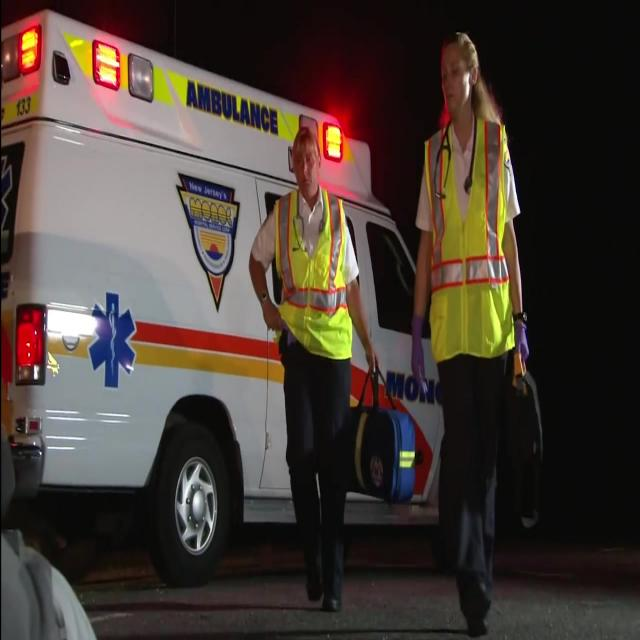Reflective-Jacket: (412, 110, 530, 390), (258, 185, 366, 371)
